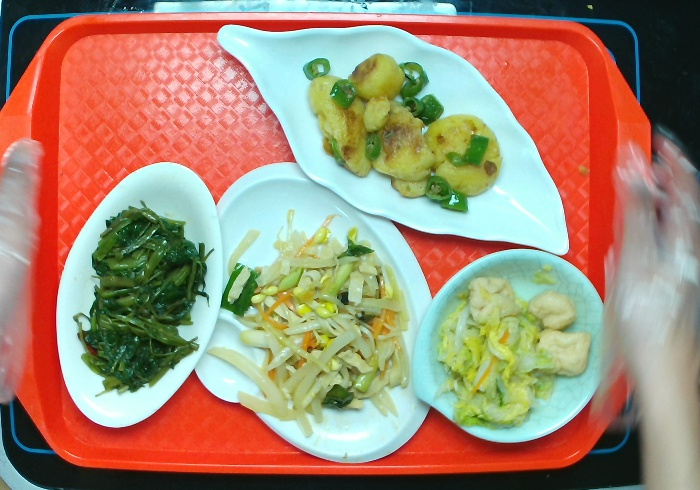RJxy-Bai_Se_Tuo_Yuan: (55, 157, 227, 431)
RJxy-Shu_Ye_Pan: (216, 1, 573, 262)
RJxy-Xiao_Jiao_Yuan_Wan: (418, 254, 612, 451)
RJxy-Zhan_Liao_Pan: (201, 165, 440, 465)
